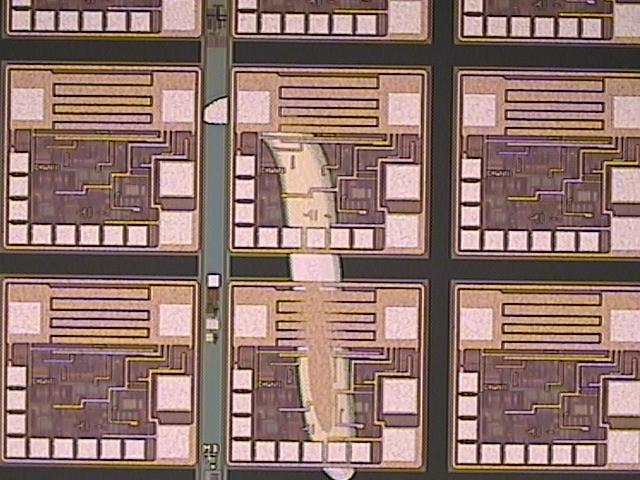BLOCK ETCH: (203, 93, 361, 480)
